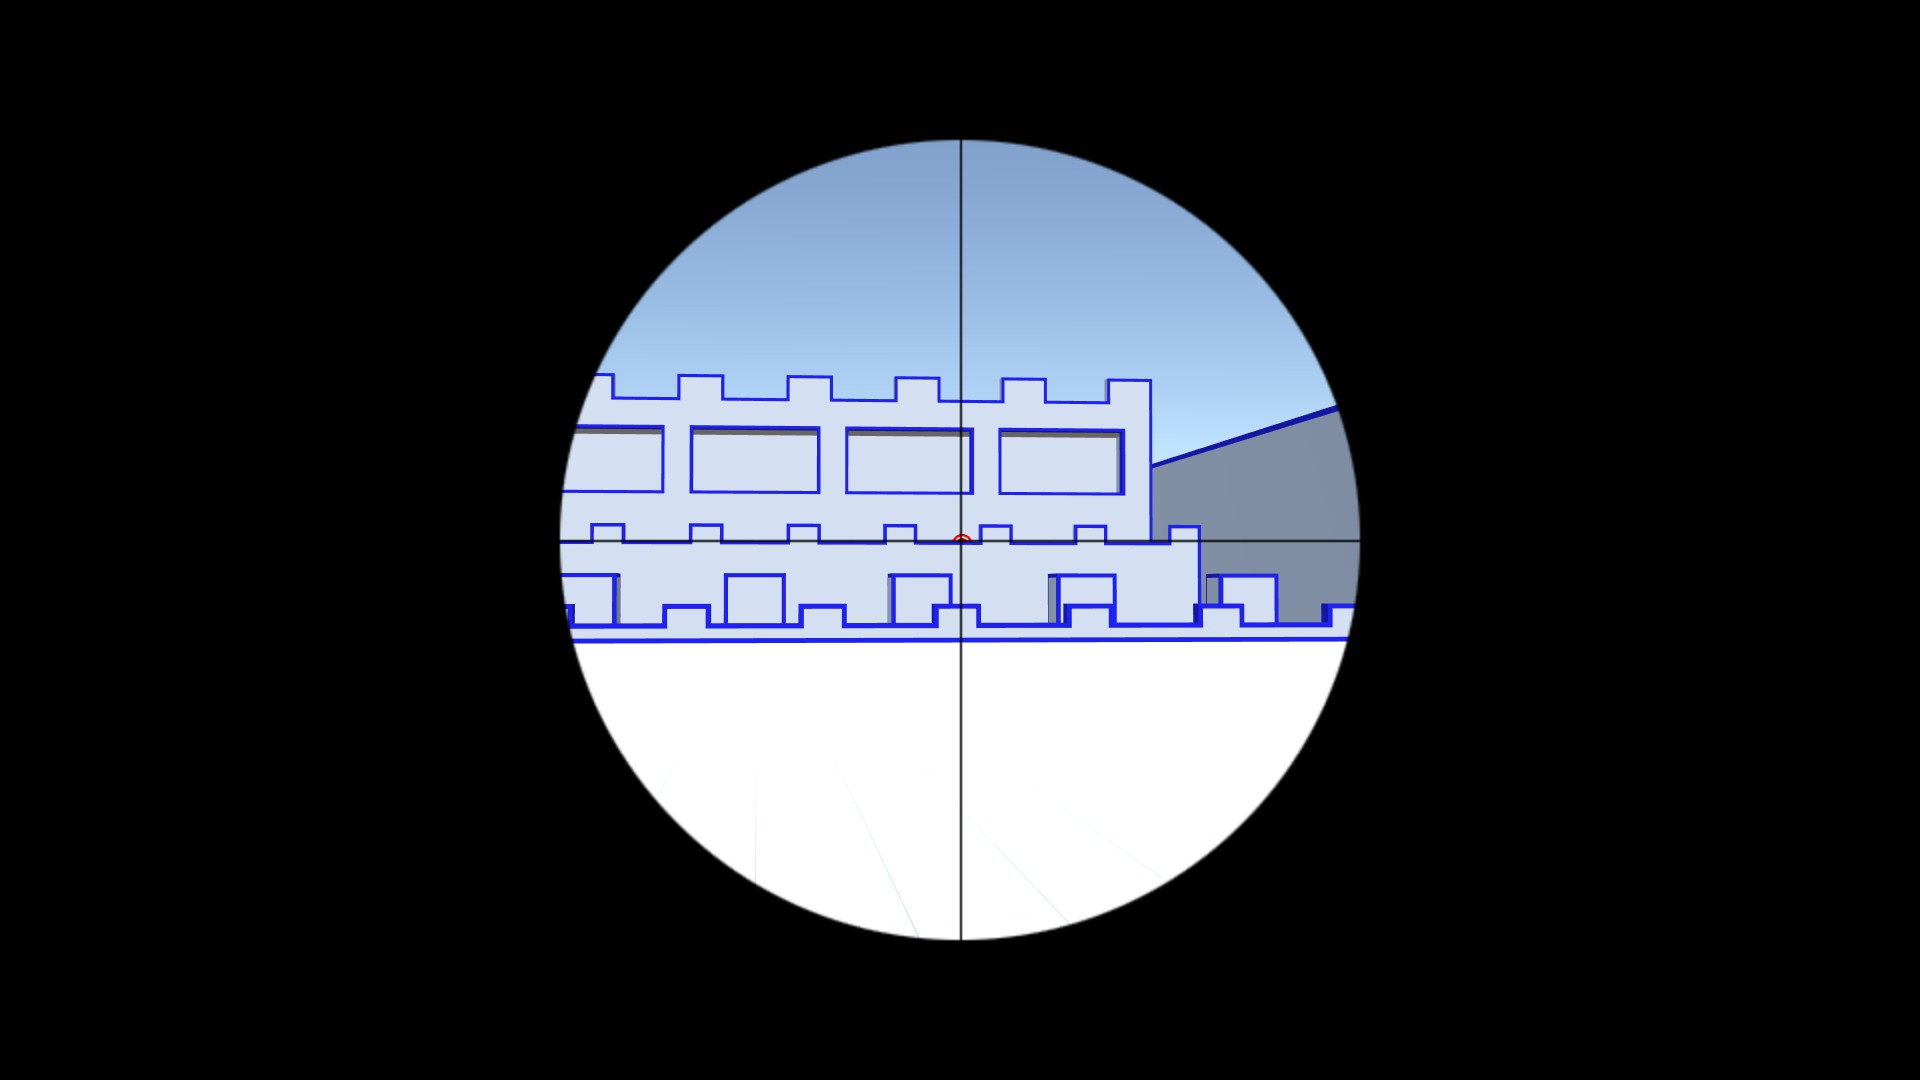target: (952, 534, 975, 542)
